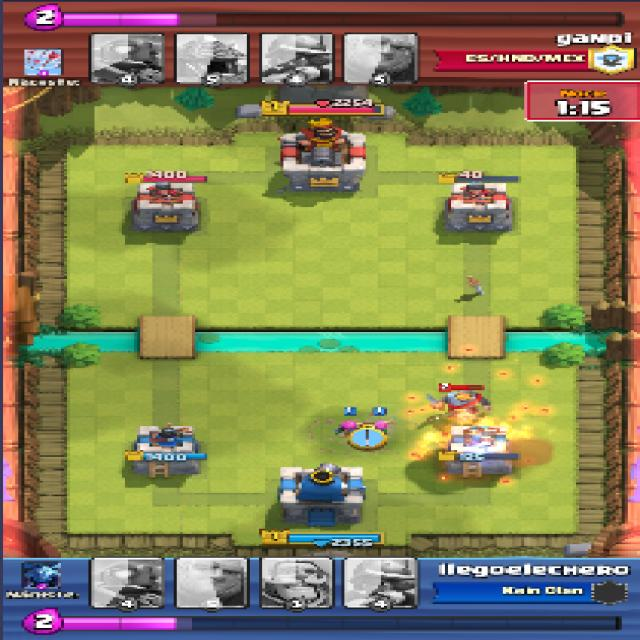Enemy-Fireball: (418, 415, 548, 479)
Enemy-Knight: (428, 388, 494, 418)
Player-Archer: (338, 420, 360, 436), (372, 420, 394, 432)
